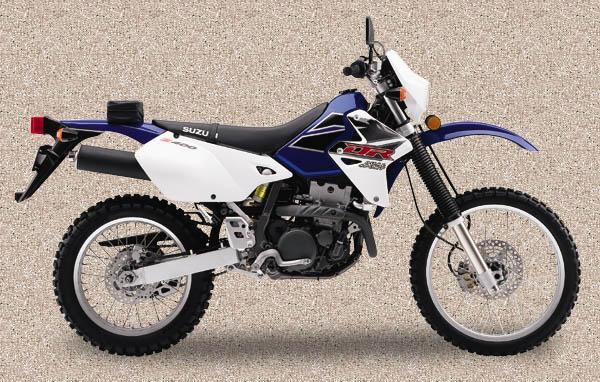motorcycle: (10, 3, 593, 371)
